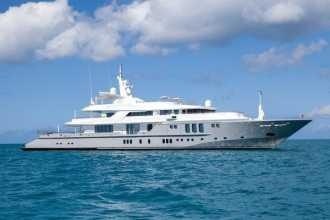yacht: (20, 75, 314, 152)
